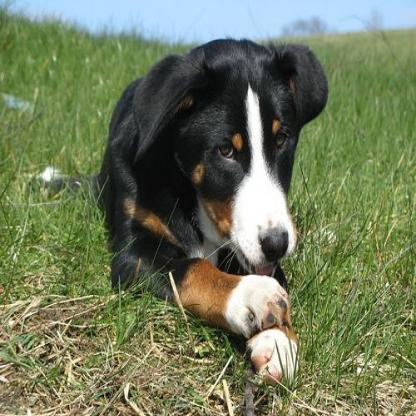Appenzeller: (89, 35, 328, 384)
